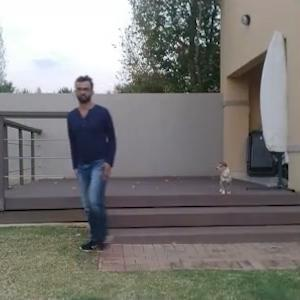follow: (68, 71, 125, 259)
